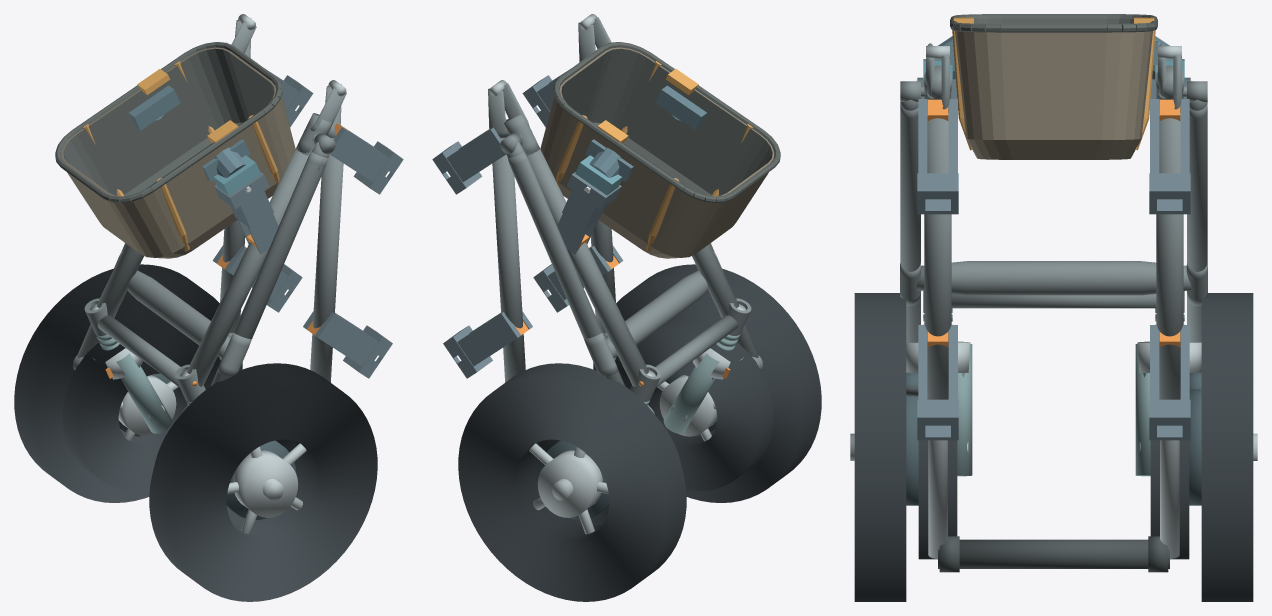
File: S15_w380_state3_wheel_L.glb
3 renders of one model, left to right at view 1: azimuth 30°, elevation 25°; view 2: azimuth 150°, elevation 25°; view 3: azimuth 270°, elevation 25°, orthographic. The views are drawn at different scales.
Visible parts, largest first — view 1: RL_tire.013, S15_Cabin, RR_tire.013, FR_tire.013, main_upper_-1.001, main_lower_-1.001, V46_rear_leg_-1, S15_Cabin_Mount_L, RL_sealed_hub.013, Universal_Cabin_Receiver_H_-1, V46_rearbar, Universal_Cabin_Receiver_M_-1 (+14 smaller); view 2: RR_tire.013, S15_Cabin, RL_tire.013, FL_tire.013, main_upper_1.001, main_lower_1.001, V46_rear_leg_1, S15_Cabin_Mount_L, RR_sealed_hub.013, Universal_Cabin_Receiver_H_1, V46_rearbar, Universal_Cabin_Receiver_M_1 (+14 smaller); view 3: S15_Cabin, RL_tire.013, RR_tire.013, V46_rearbar, main_upper_1.001, main_upper_-1.001, round_handle.012, V46_rear_leg_1, V46_rear_leg_-1, Universal_Cabin_Receiver_M_1, Universal_Cabin_Receiver_M_-1, Universal_Cabin_Receiver_H_1 (+17 smaller).
Boxes of the visible parts, x1,y1,x2,y2 form: RL_tire.013: (149,363,377,601); S15_Cabin: (55,42,295,258); RR_tire.013: (14,264,242,502); FR_tire.013: (62,318,220,490); main_upper_-1.001: (310,138,343,382); main_lower_-1.001: (187,145,314,386); V46_rear_leg_-1: (211,151,327,385); S15_Cabin_Mount_L: (129,85,260,195); RL_sealed_hub.013: (233,450,298,517); Universal_Cabin_Receiver_H_-1: (303,311,392,378); V46_rearbar: (127,270,230,357); Universal_Cabin_Receiver_M_-1: (329,126,403,194); RR_tire.013: (458,363,686,601); S15_Cabin: (540,42,780,258); RL_tire.013: (593,264,821,502); FL_tire.013: (615,318,773,490); main_upper_1.001: (492,138,525,382); main_lower_1.001: (521,145,648,386); V46_rear_leg_1: (508,151,624,385); S15_Cabin_Mount_L: (575,85,706,195); RR_sealed_hub.013: (537,450,602,517); Universal_Cabin_Receiver_H_1: (443,311,532,378); V46_rearbar: (605,270,708,357); Universal_Cabin_Receiver_M_1: (432,118,506,194); S15_Cabin: (950,14,1157,159); RL_tire.013: (854,293,906,601); RR_tire.013: (1201,293,1253,601); V46_rearbar: (916,261,1191,295); main_upper_1.001: (1156,113,1183,399); main_upper_-1.001: (924,113,951,399); round_handle.012: (938,539,1169,568); V46_rear_leg_1: (1187,103,1207,342); V46_rear_leg_-1: (900,103,920,342); Universal_Cabin_Receiver_M_1: (1149,99,1190,214); Universal_Cabin_Receiver_M_-1: (917,99,958,214); Universal_Cabin_Receiver_H_1: (1149,325,1190,440).
Size of the model in its own units: 0.4647 by 0.7725 by 0.4748.
